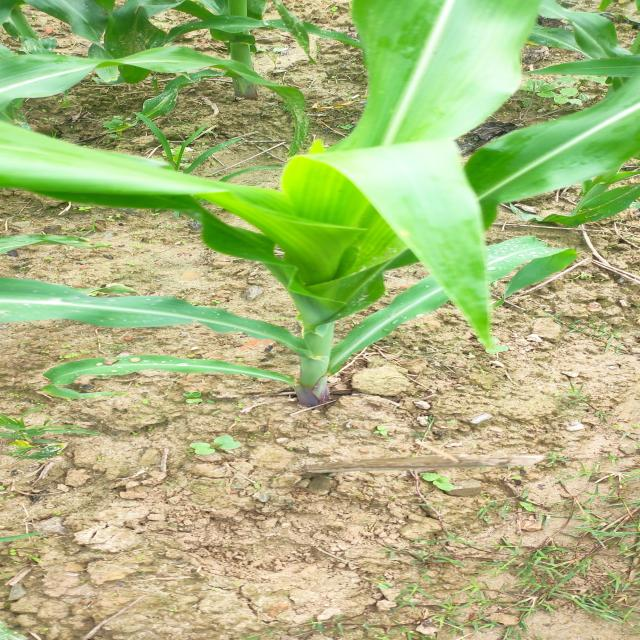maize: (34, 0, 640, 406)
